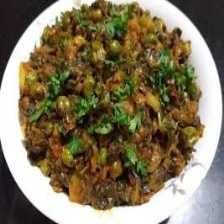sabzi: (15, 1, 204, 209)
